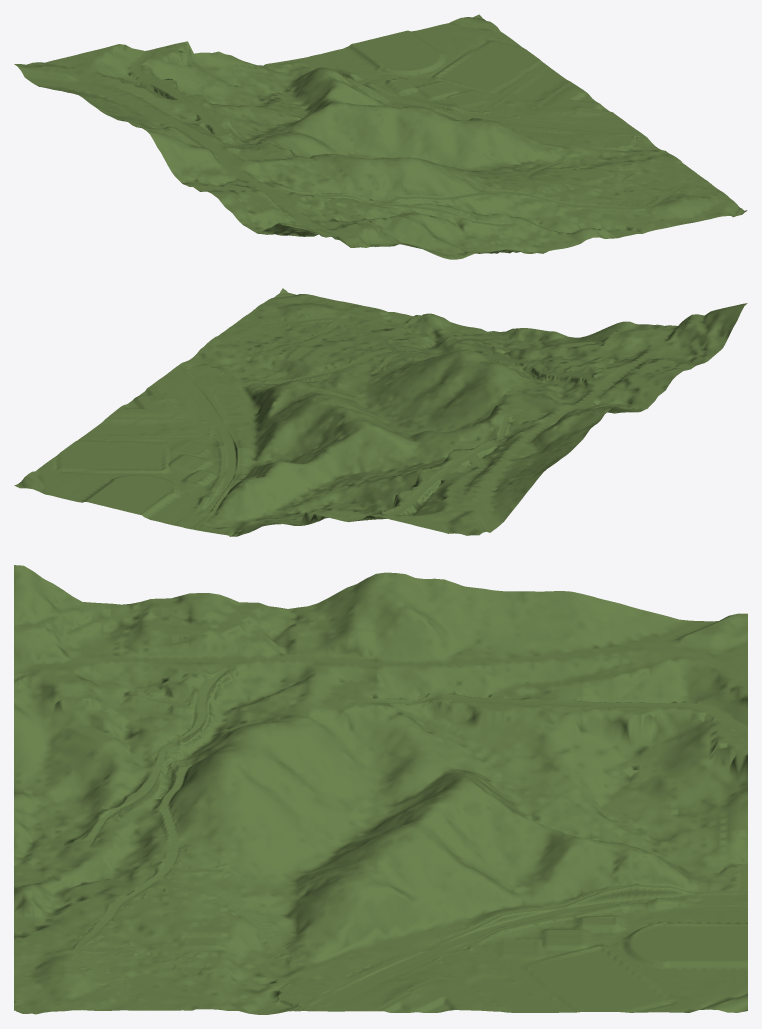
Rendered from terrain_3_0.glb.
The picture shows the model from 3 angles, top to bottom: view 1: azimuth 30°, elevation 25°; view 2: azimuth 150°, elevation 25°; view 3: azimuth 270°, elevation 25°; orthographic projection. The views are drawn at different scales.
Parts seen in each view (by area): view 1: terrain_3_0; view 2: terrain_3_0; view 3: terrain_3_0.
Boxes of the visible parts, box(x1,y1,x2,y2) form: terrain_3_0: box(14, 14, 747, 259); terrain_3_0: box(14, 288, 747, 536); terrain_3_0: box(14, 565, 747, 1014).
Size of the model in its own units: 600 by 126 by 600.
